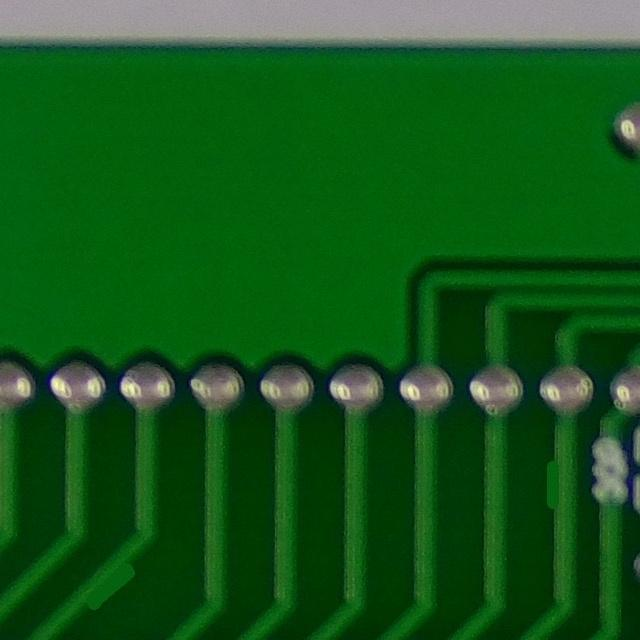spur: (71, 553, 148, 620), (535, 451, 576, 522)
